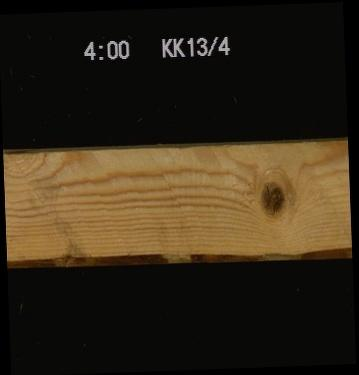sound_knot: (256, 178, 285, 216)
wave: (5, 249, 351, 263)
